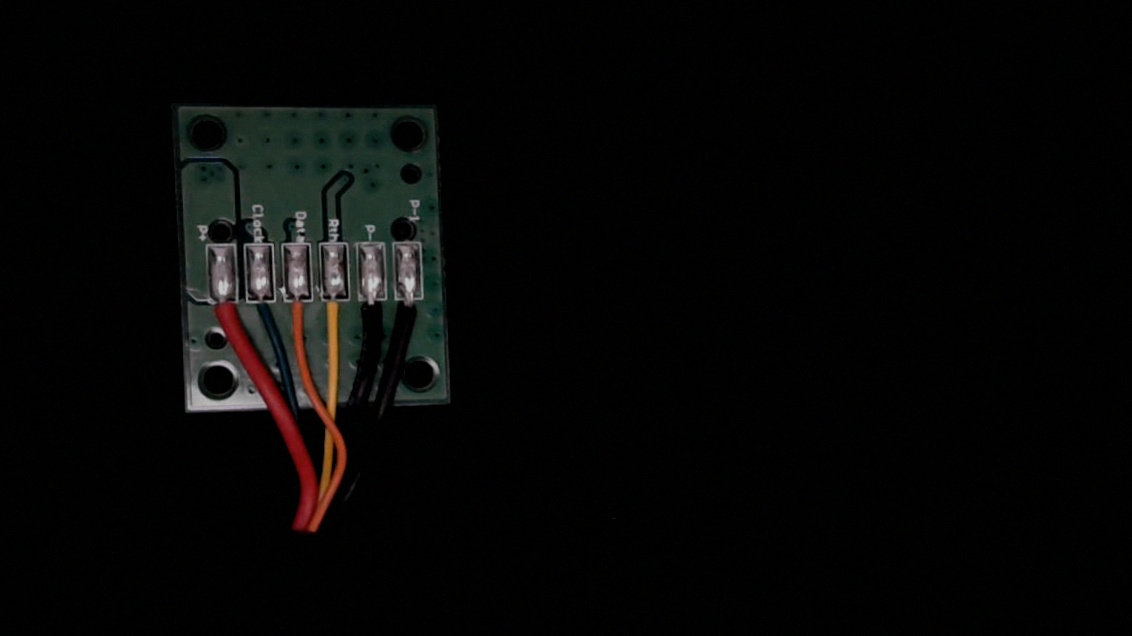Black: (356, 281, 390, 348)
Black1: (396, 281, 428, 342)
Green: (245, 282, 278, 346)
Orange: (283, 282, 314, 348)
Red: (207, 283, 240, 347)
Yellow: (320, 282, 353, 350)
